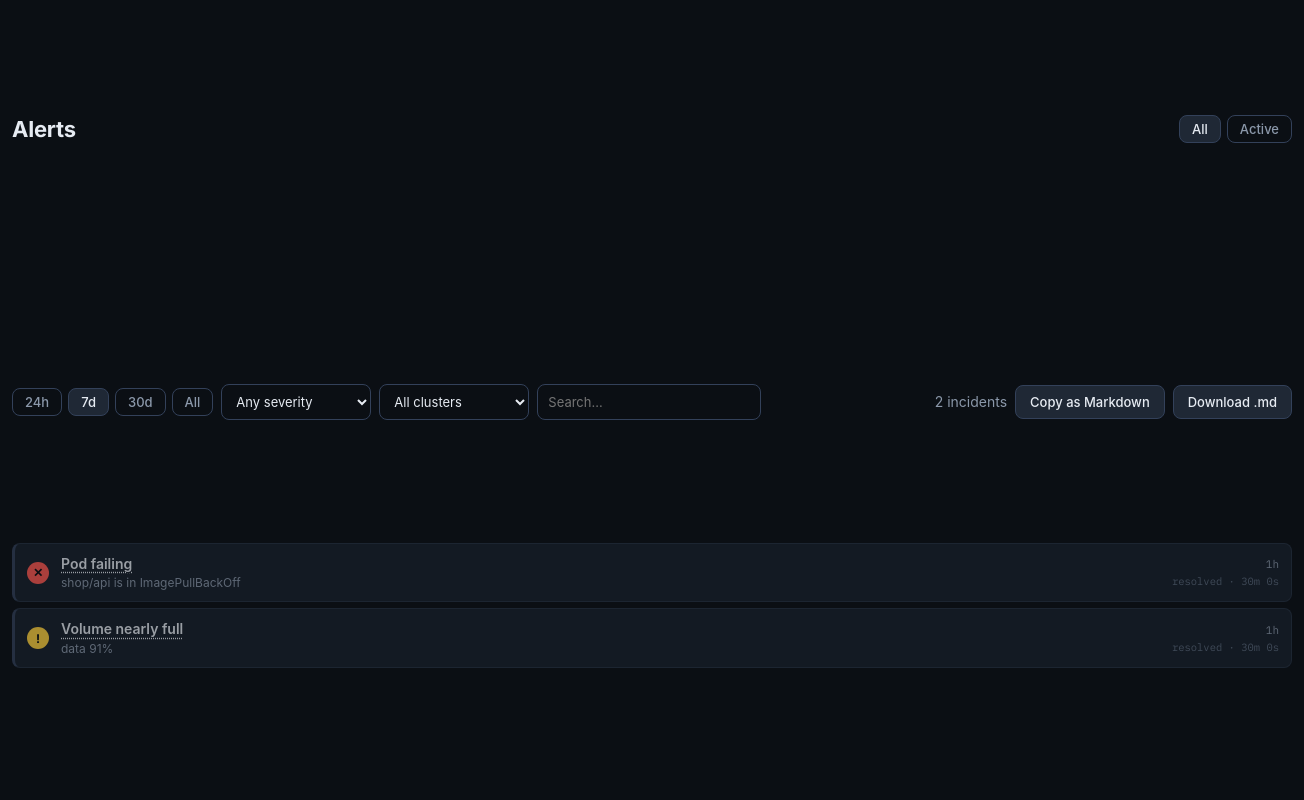
Scenario: the alerts page › filters by severity, by words and by period, and says how many are left
This screenshot has width=1304, height=800.
expect the text "2 incidents" is shown: met, box left=935, top=392, right=1007, bottom=412
Select "Warning" in the dropdown named "Severity" at [296, 402], box left=221, top=384, right=371, bottom=420
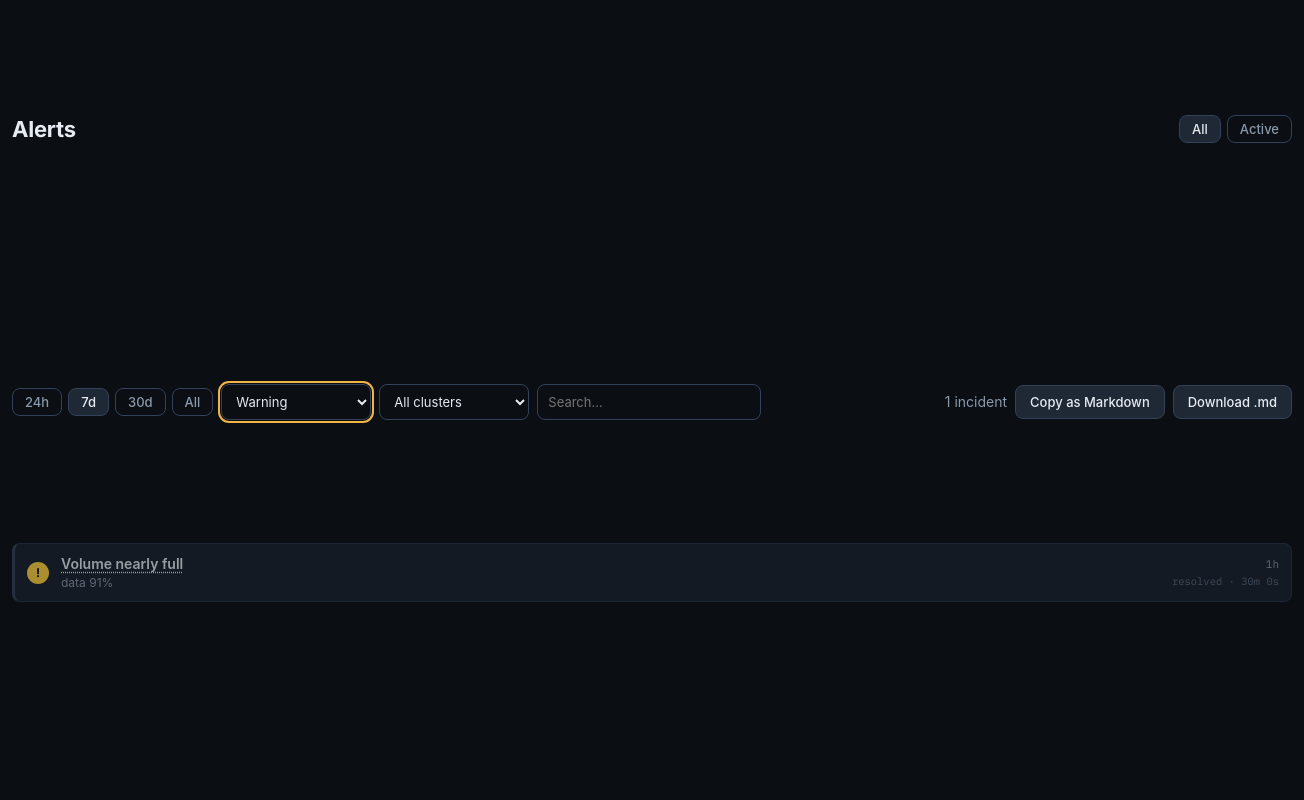
expect the button "Volume nearly full" is shown: met, box left=61, top=554, right=183, bottom=574
expect the text "1 incident" is shown: met, box left=945, top=392, right=1007, bottom=412
Select "Any severity" in the dropdown named "Severity" at [296, 402], box left=221, top=384, right=371, bottom=420
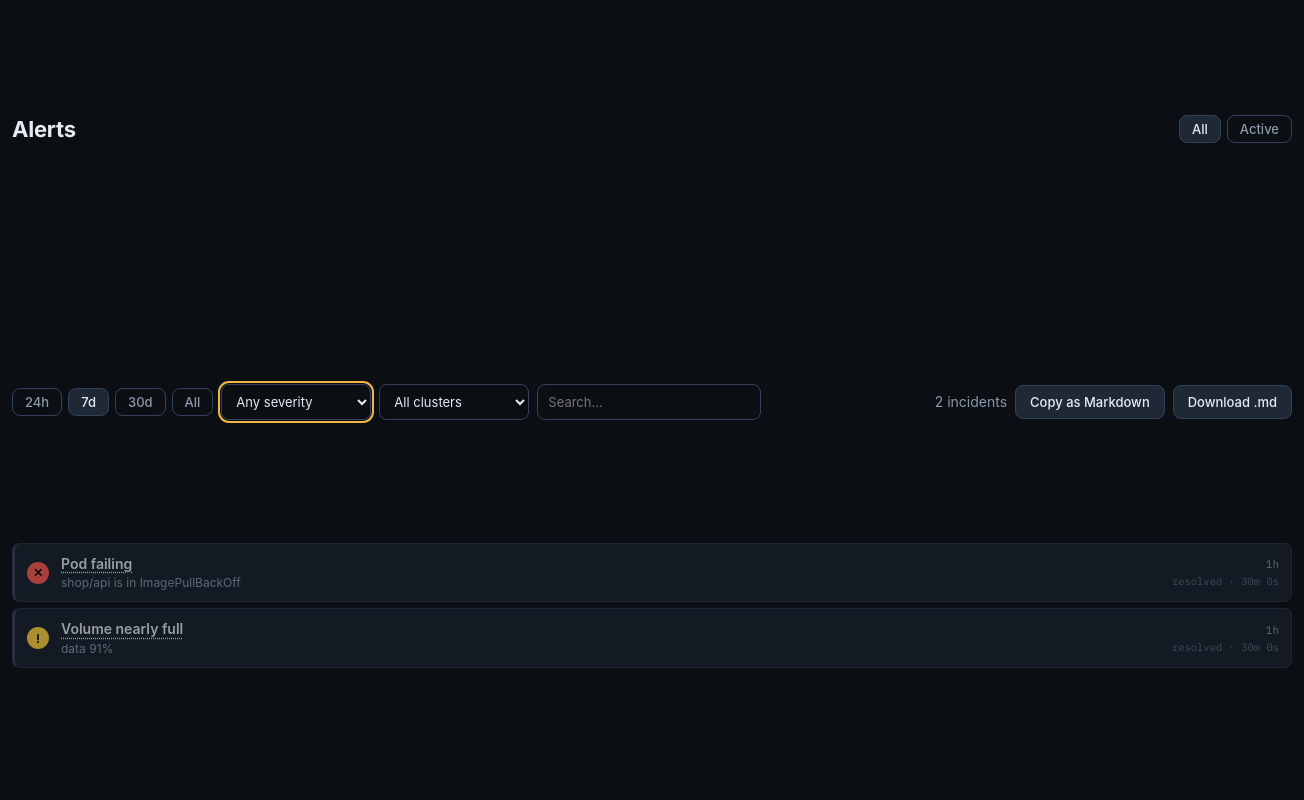
Type "data 91" into the field labelled "Search" at [649, 402], box left=537, top=384, right=761, bottom=420
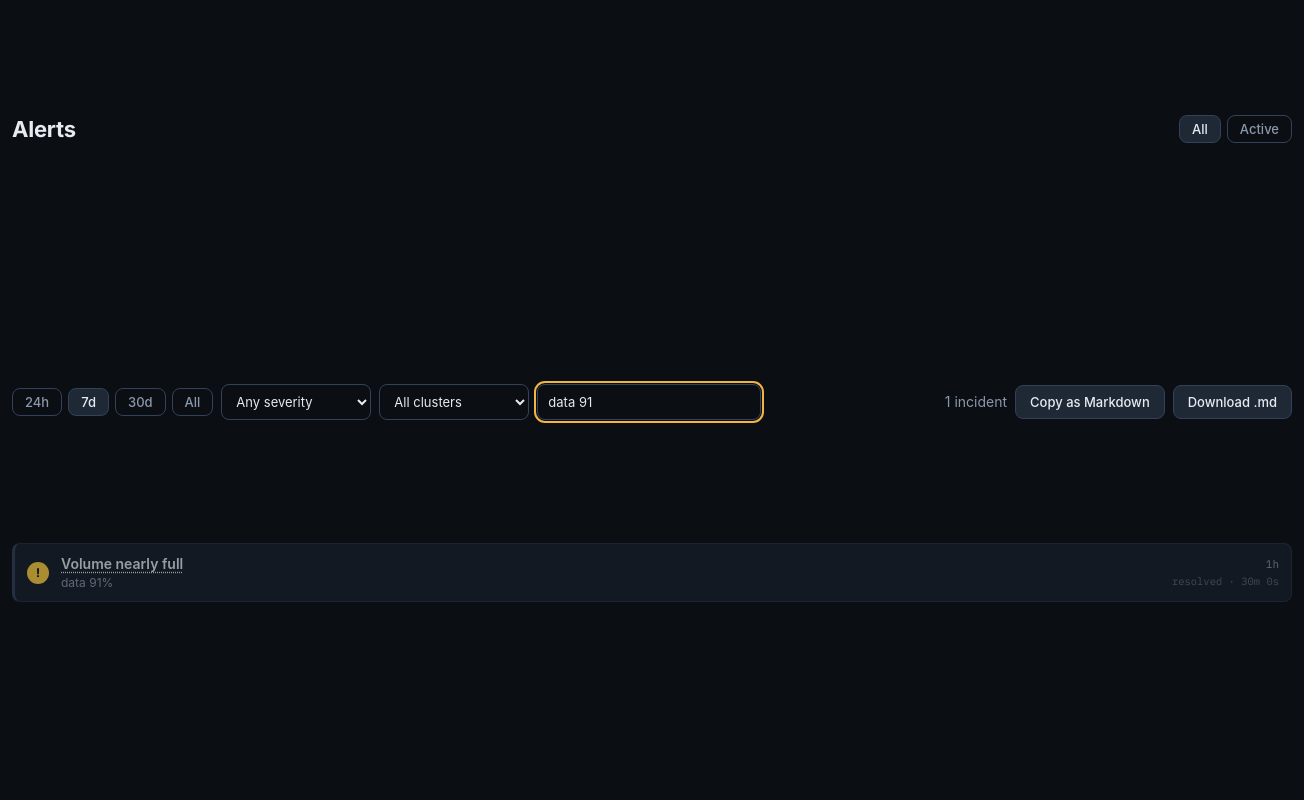
expect the text "1 incident" is shown: met, box left=945, top=392, right=1007, bottom=412
Clear the field named "Search" at [649, 402], box left=537, top=384, right=761, bottom=420
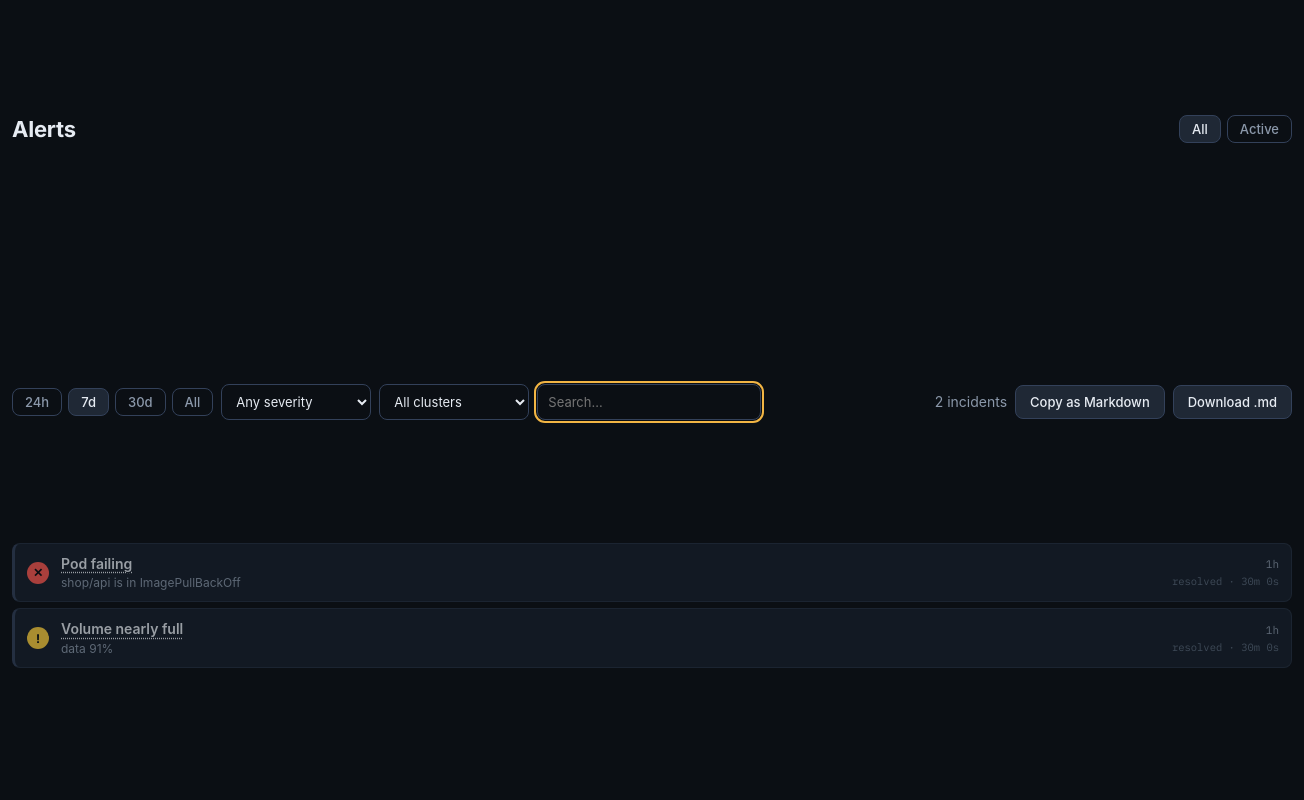
Click the button "30d" at [140, 402], box left=115, top=388, right=166, bottom=416
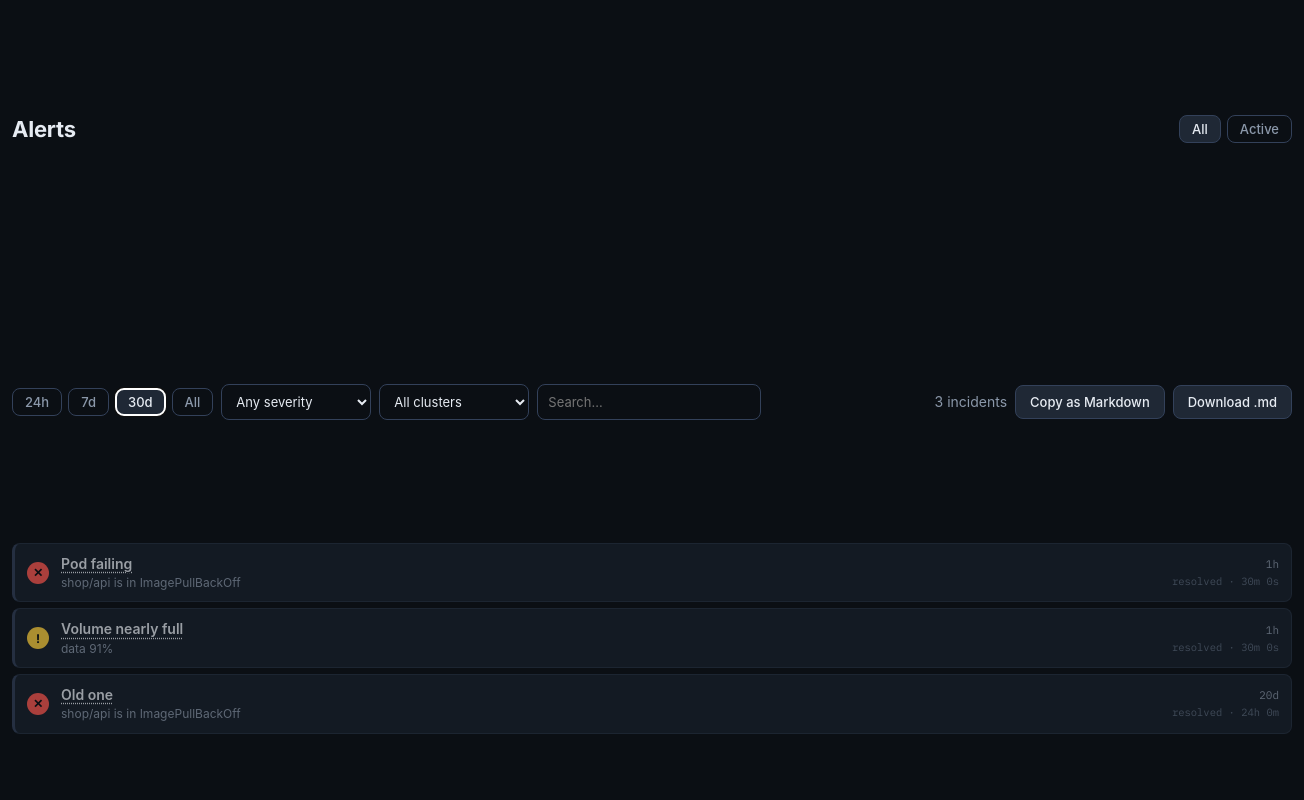
expect the text "3 incidents" is shown: met, box left=934, top=392, right=1007, bottom=412
